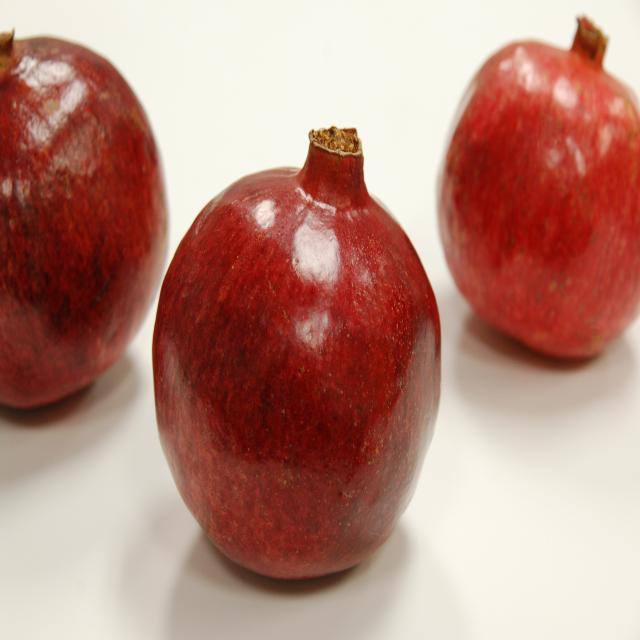apple: (154, 124, 446, 589), (437, 15, 640, 369), (2, 25, 165, 442)
